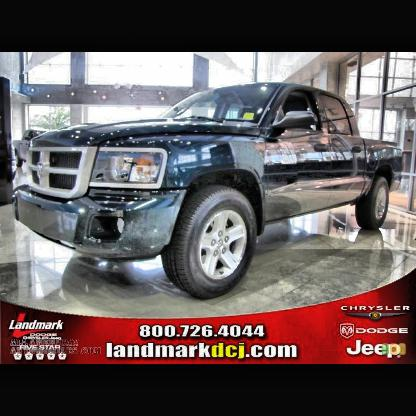Dodge Dakota Crew Cab 2010: (16, 83, 404, 302)
